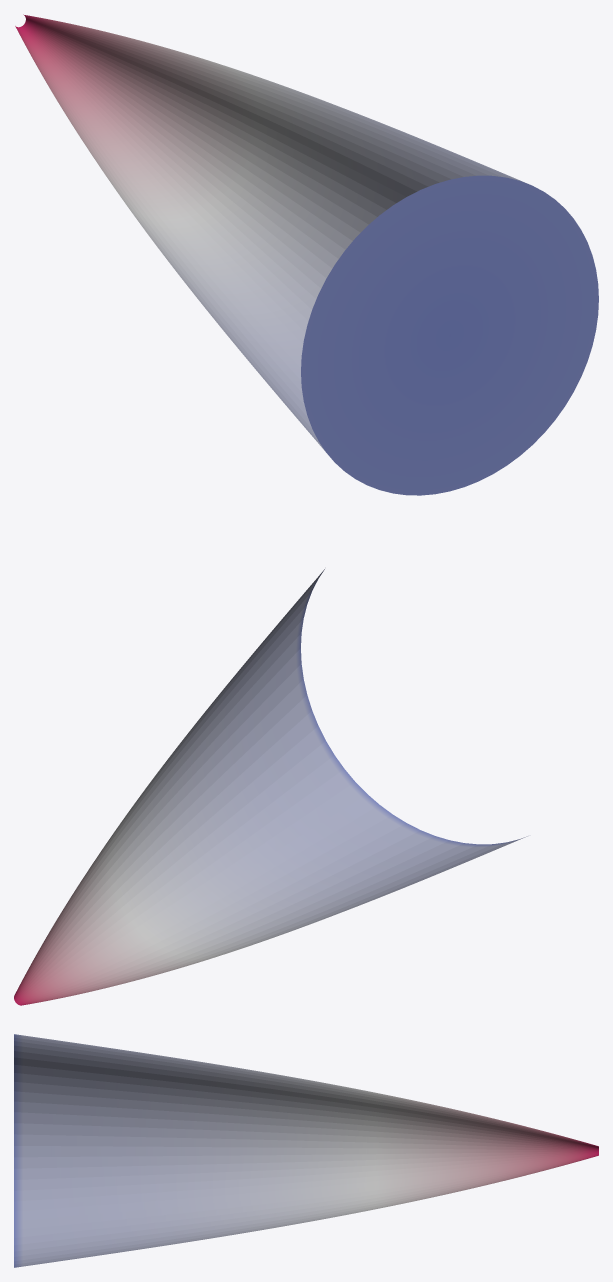
File: frame_027.glb
3 renders of one model, top to bottom at view 1: azimuth 30°, elevation 25°; view 2: azimuth 150°, elevation 25°; view 3: azimuth 270°, elevation 25°, orthographic. The views are drawn at different scales.
Parts seen in each view (by area): view 1: world; view 2: world; view 3: world.
Part boxes in pixels (box(x1,y1,x2,y2)): world: box(15, 14, 598, 495); world: box(14, 569, 527, 1005); world: box(14, 1034, 598, 1267).
Bounding box in the file's own units: 0.4002 × 0.4 × 1.
